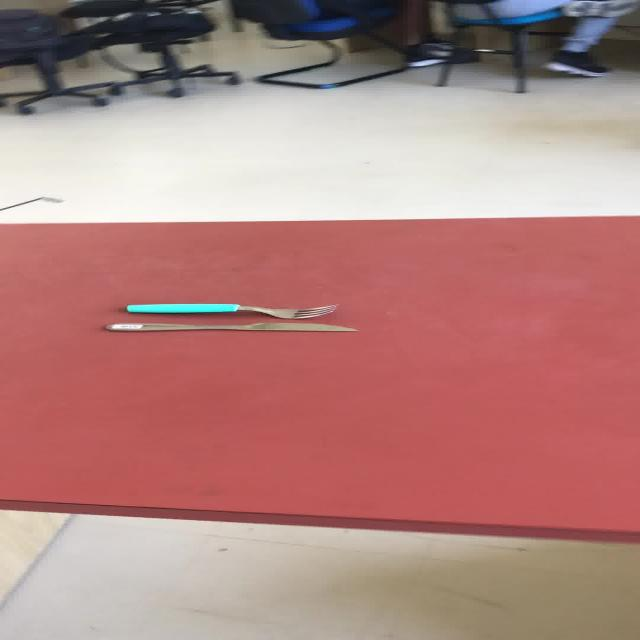fork: (123, 302, 338, 319)
knife fork: (102, 321, 358, 332)
